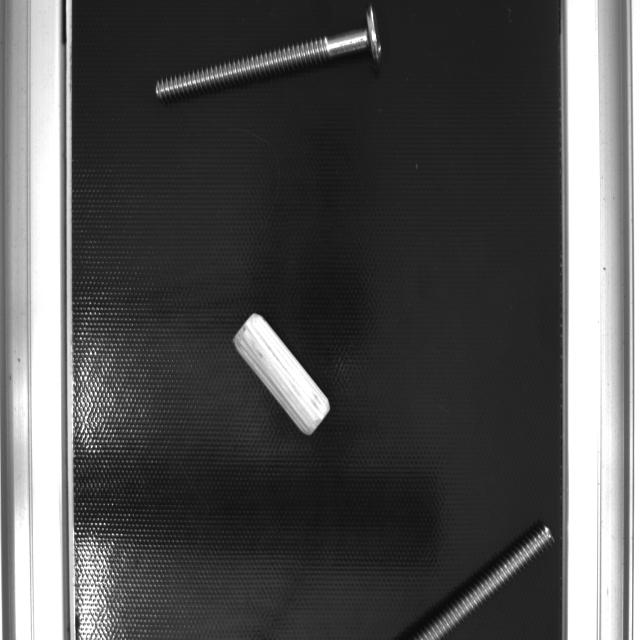Chot go: (229, 308, 334, 441)
bulon: (409, 522, 556, 638), (154, 27, 369, 106)
